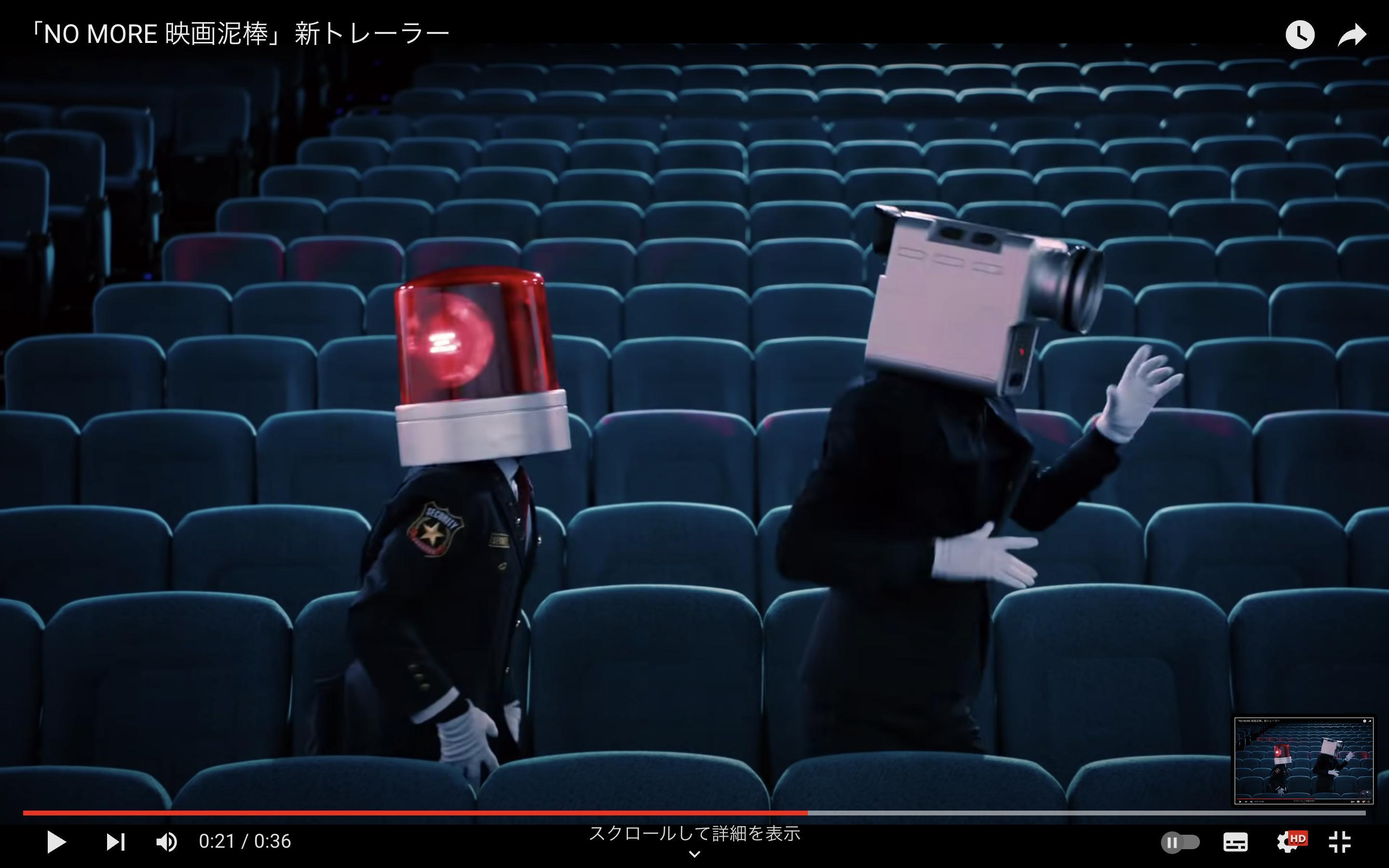no more kid: (850, 191, 1125, 411)
